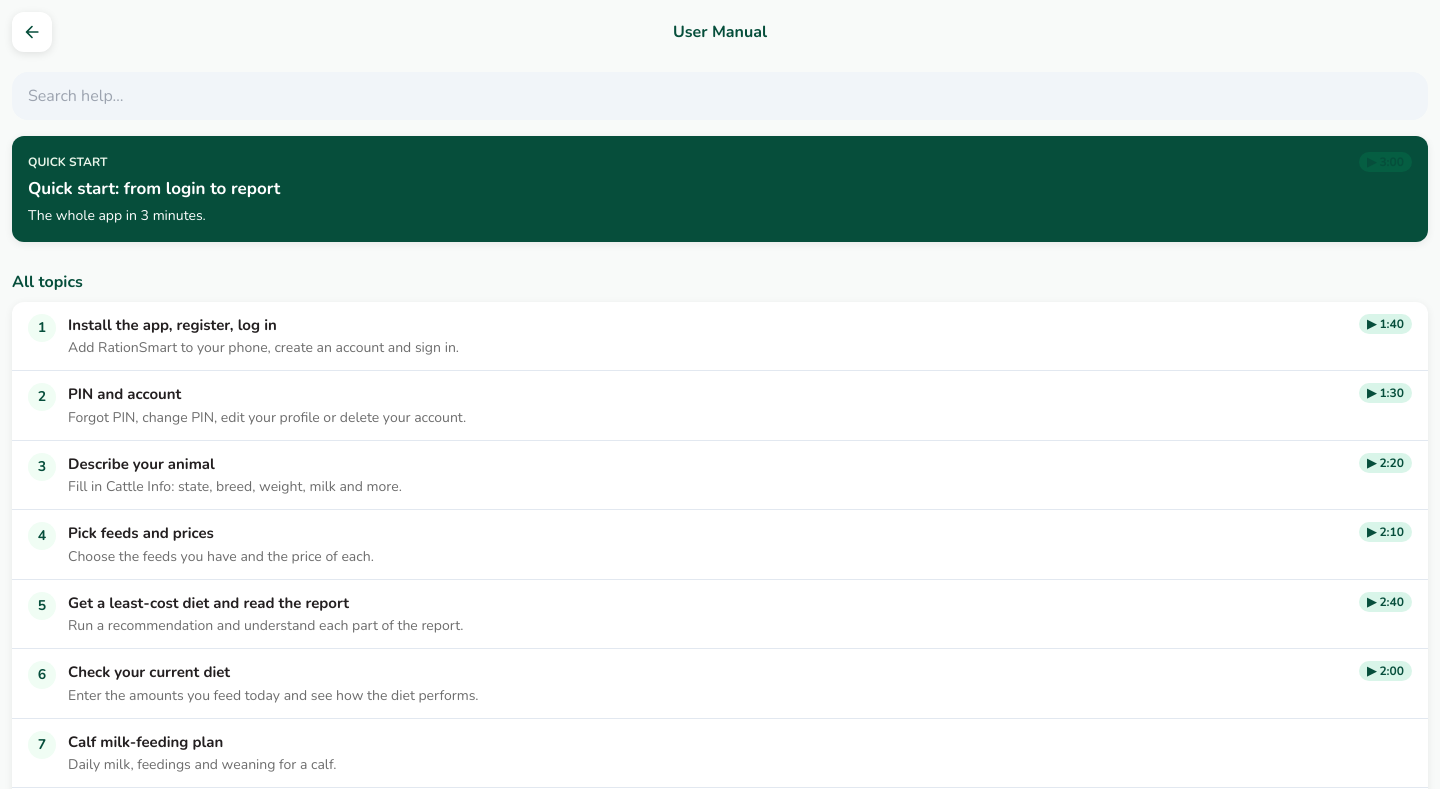
Test: Help home › filters topics by the search text
Expected: the text "Pick feeds and prices" is shown, [68,523,214,543]
Type "PDF" into the search field at (720, 96), box [12,72,1428,120]
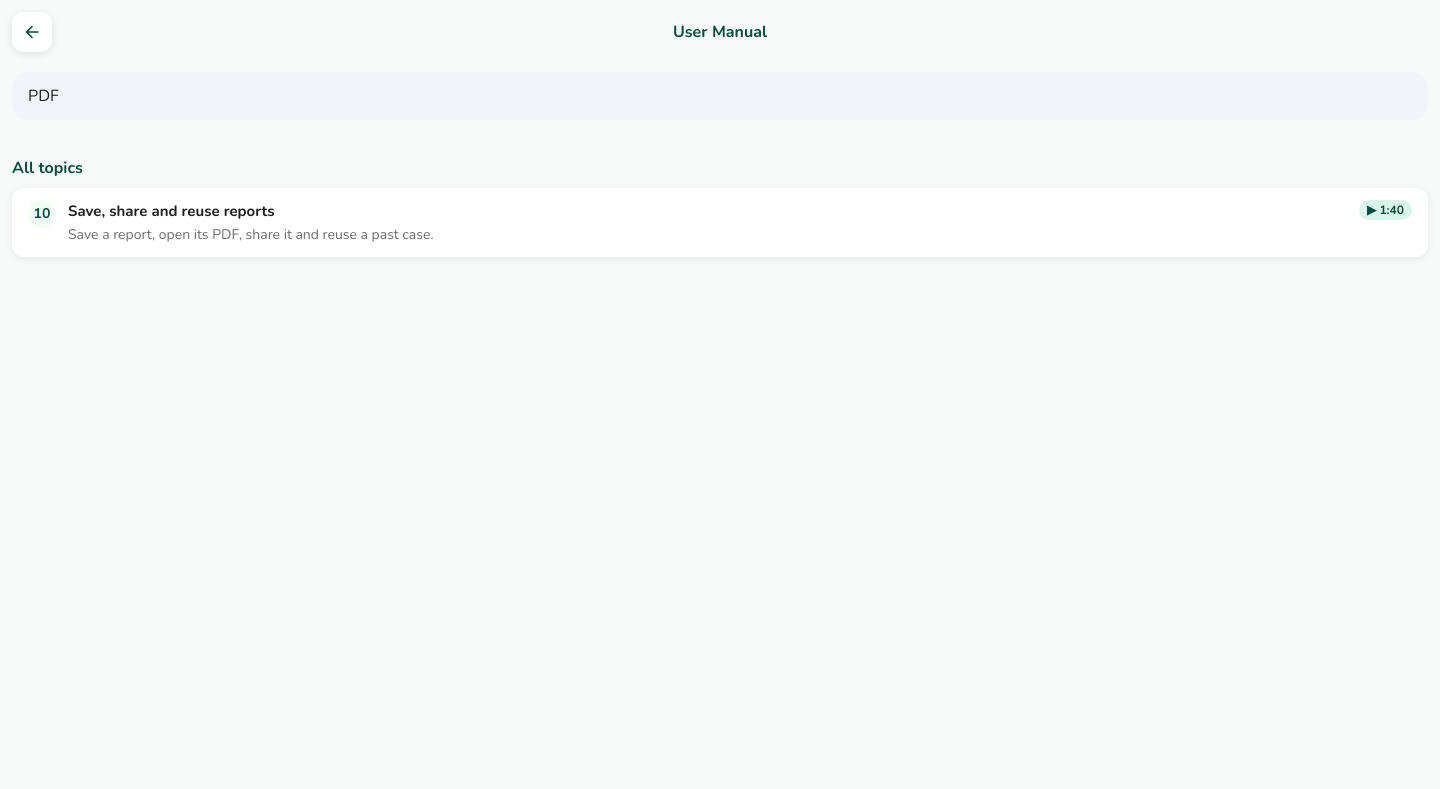
Expected: the text "Save, share and reuse reports" is shown, [68,201,275,221]
Expected: the button "Pick feeds and prices" is gone
Replace the text in the search field with "zzz" at (720, 96), box [12,72,1428,120]
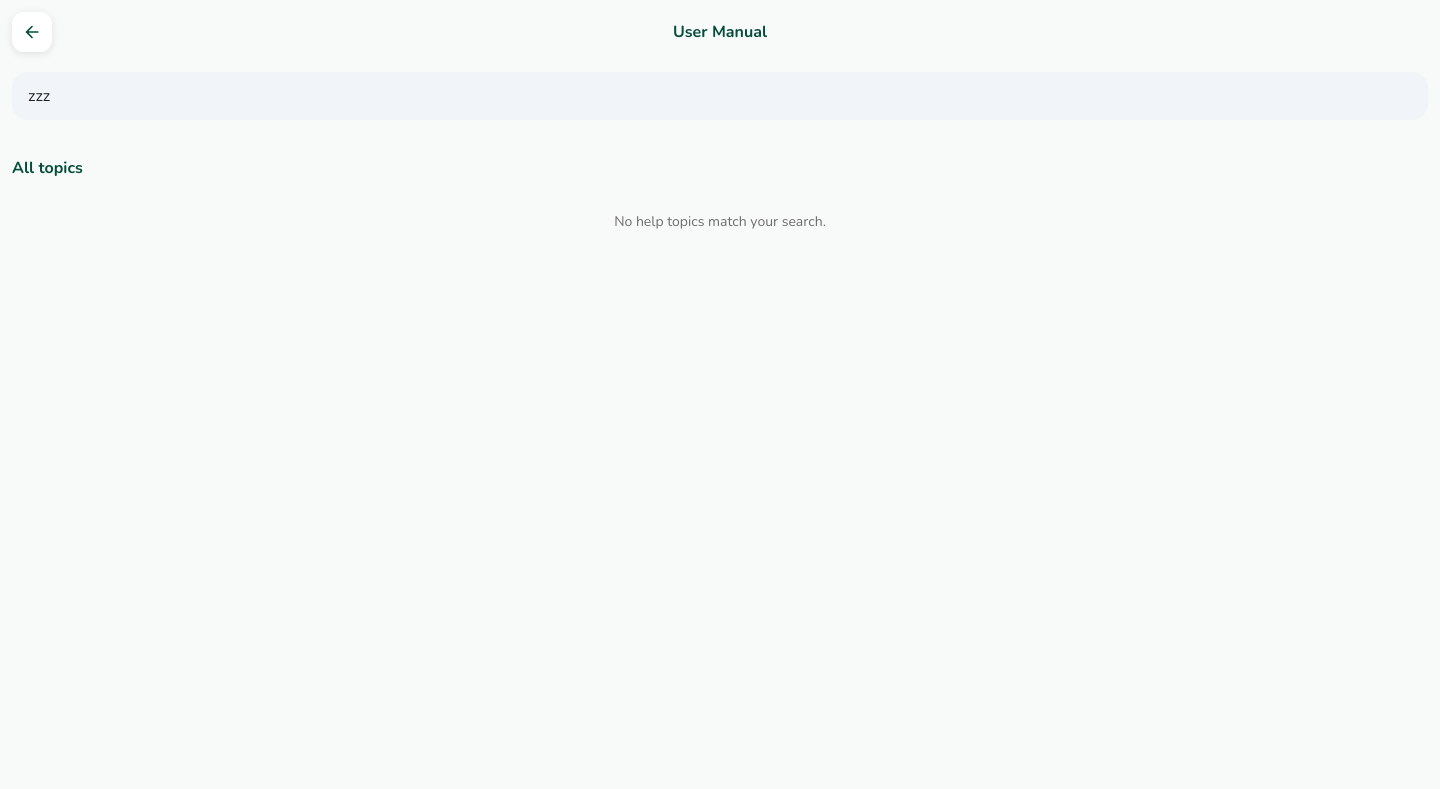
Expected: the text "No help topics match your search." is shown, [614,212,826,231]
